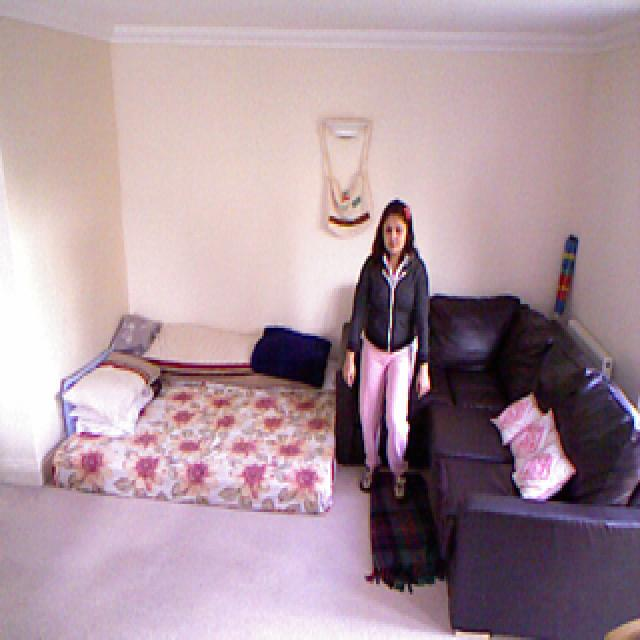standing: (341, 200, 432, 498)
